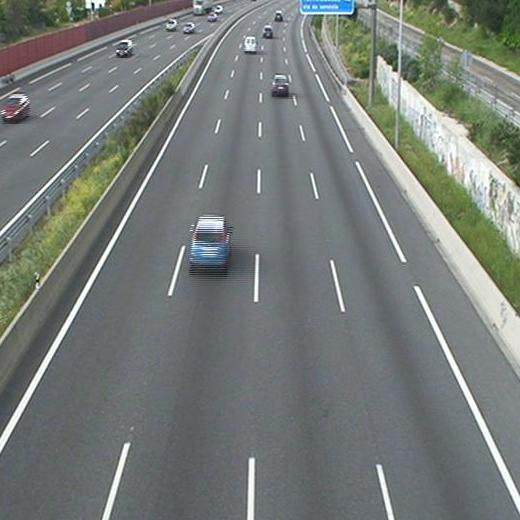car: (191, 217, 230, 268), (271, 75, 290, 94), (262, 27, 273, 38), (274, 11, 283, 21)
van: (244, 36, 256, 50)
